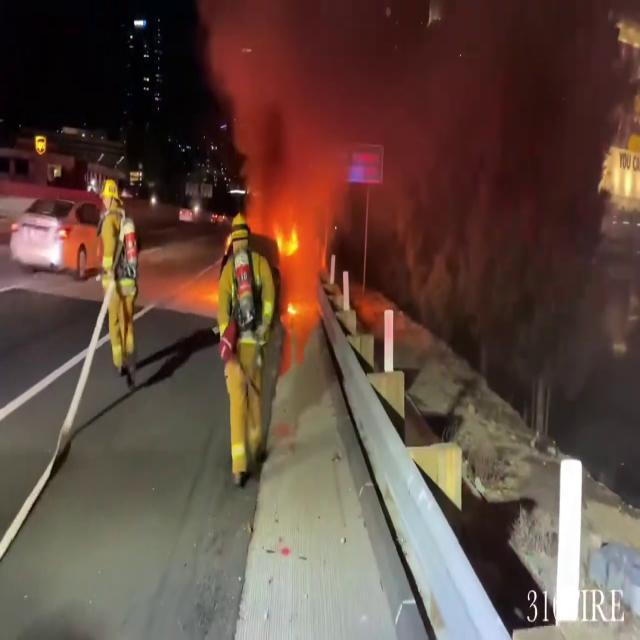Fire: (270, 212, 305, 306)
Smoke: (200, 0, 606, 211)
